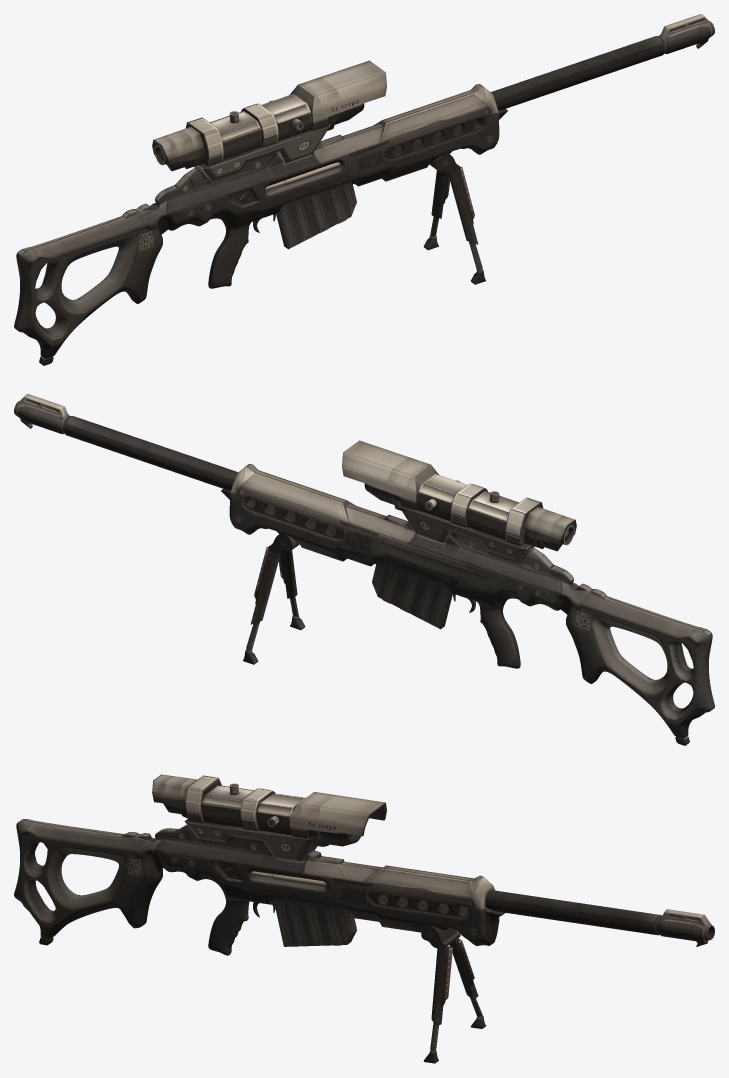
The model's file is sniper2.glb.
The picture shows the model from 3 angles, top to bottom: view 1: azimuth 30°, elevation 25°; view 2: azimuth 150°, elevation 25°; view 3: azimuth 330°, elevation 25°; orthographic projection.
Parts seen in each view (by area): view 1: Cube; view 2: Cube; view 3: Cube.
Boxes of the visible parts, left/top/right/bottom form: Cube: left=14, top=14, right=714, bottom=365; Cube: left=14, top=394, right=714, bottom=745; Cube: left=14, top=774, right=714, bottom=1063.
Size of the model in its own units: 9.68 by 2.89 by 1.23.
1 material, 1 textured.
